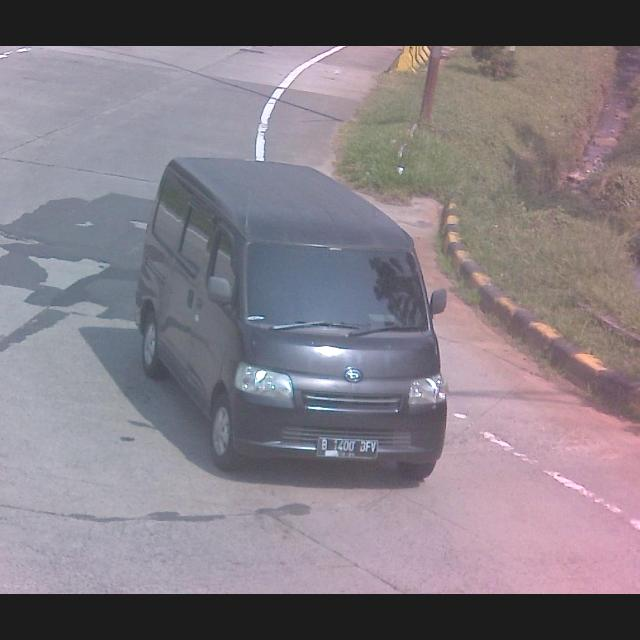plate: (317, 437, 381, 461)
